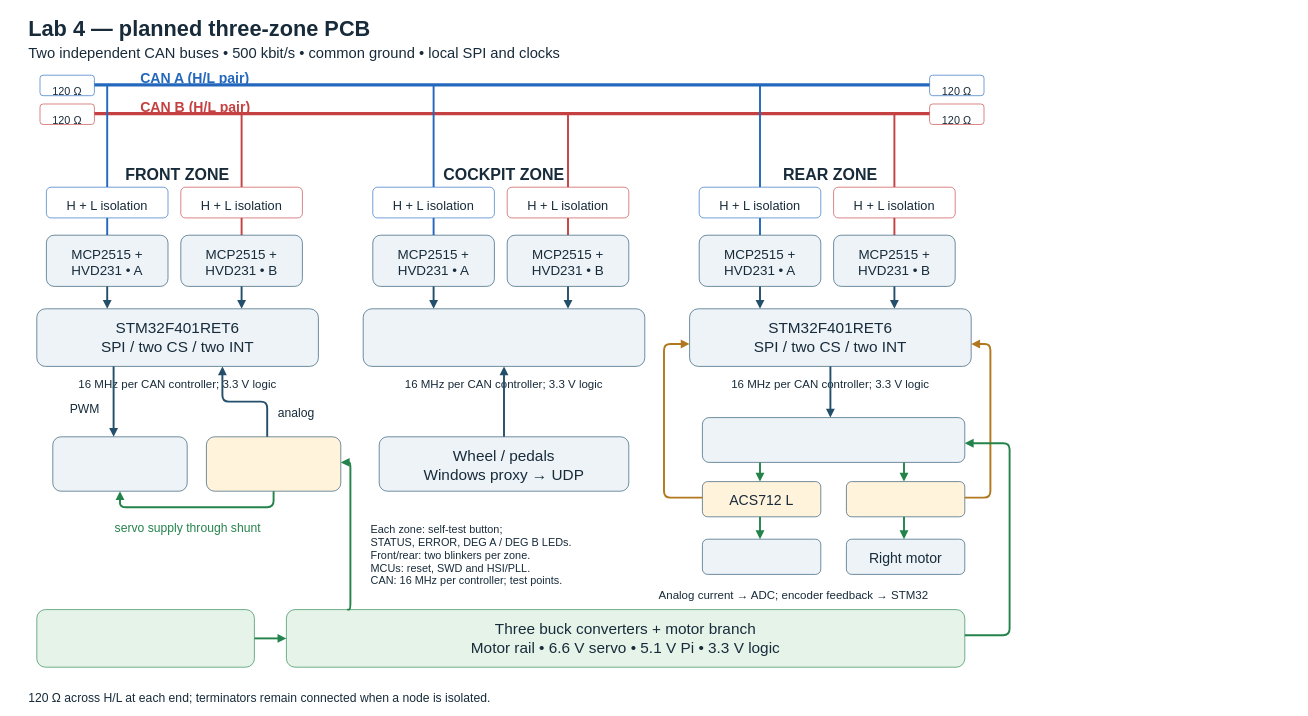
Some shapes in this 1308 by 716 pixel diagram are drawn without their labels. Here are the shapes that lost their labels. From the top down, the centre of each, then its label:
At point (504, 337): "Raspberry Pi 4 SPI / two CS / two INT".
At point (833, 439): "L298N + flyback PWM / direction".
At point (119, 463): "Steering servo LD-1501MG".
At point (273, 463): "Shunt + INA180 ADC filter".
At point (905, 499): "ACS712 R".
At point (761, 556): "Left motor".
At point (145, 638): "3S LiPo + protection 11.1 V / 2.2 Ah".
